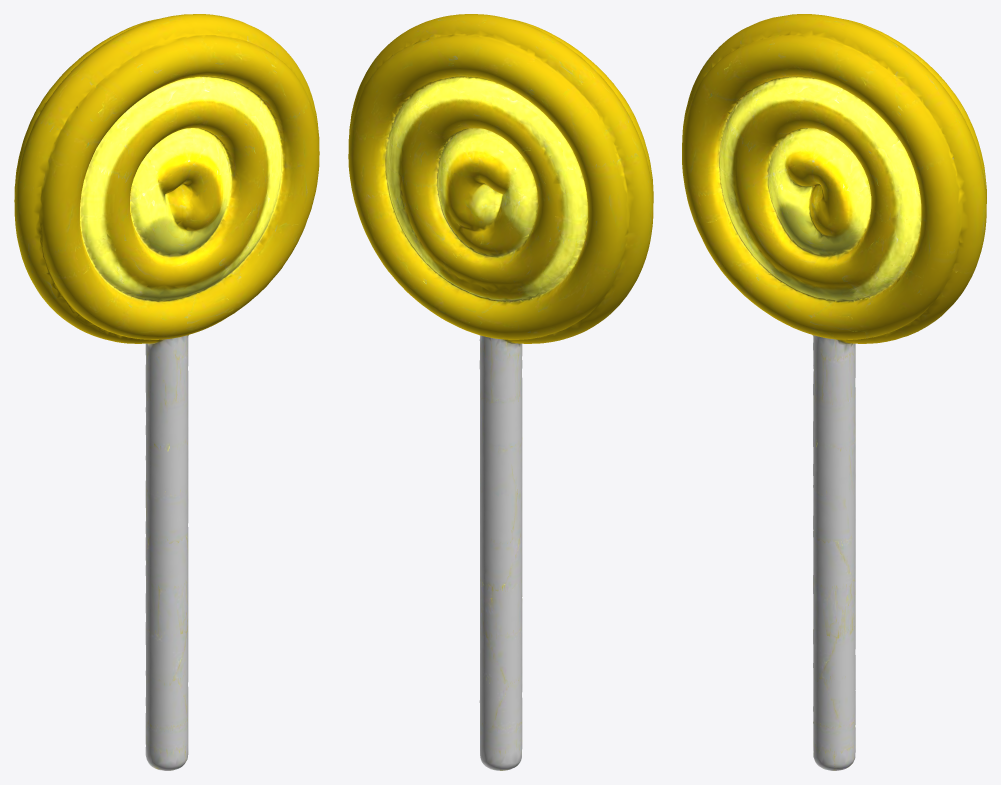
The picture shows the model from 3 angles, left to right: view 1: azimuth 30°, elevation 25°; view 2: azimuth 150°, elevation 25°; view 3: azimuth 330°, elevation 25°; orthographic projection.
Bounding box in the file's own units: 0.7958 × 1.9 × 0.206.
Materials: 1 (1 with a texture image).
